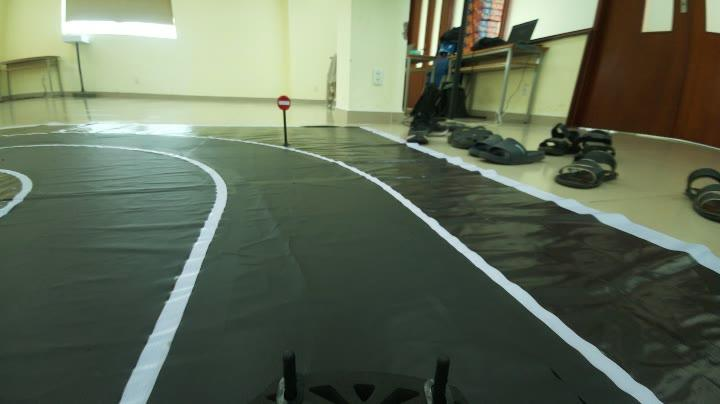no_entry: (273, 93, 295, 111)
